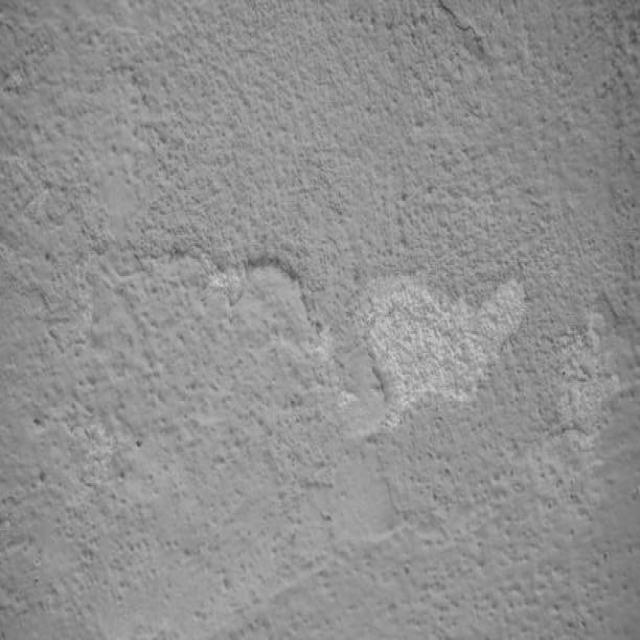peeling paint: (0, 64, 640, 500)
